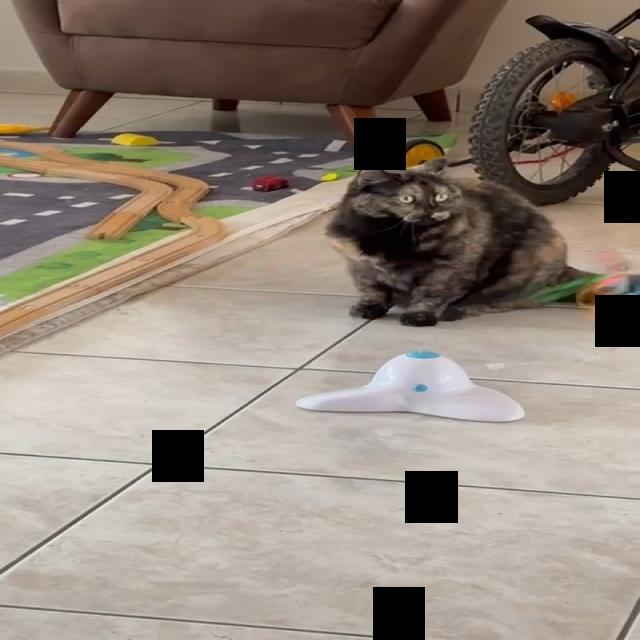authorized: (324, 156, 639, 327)
